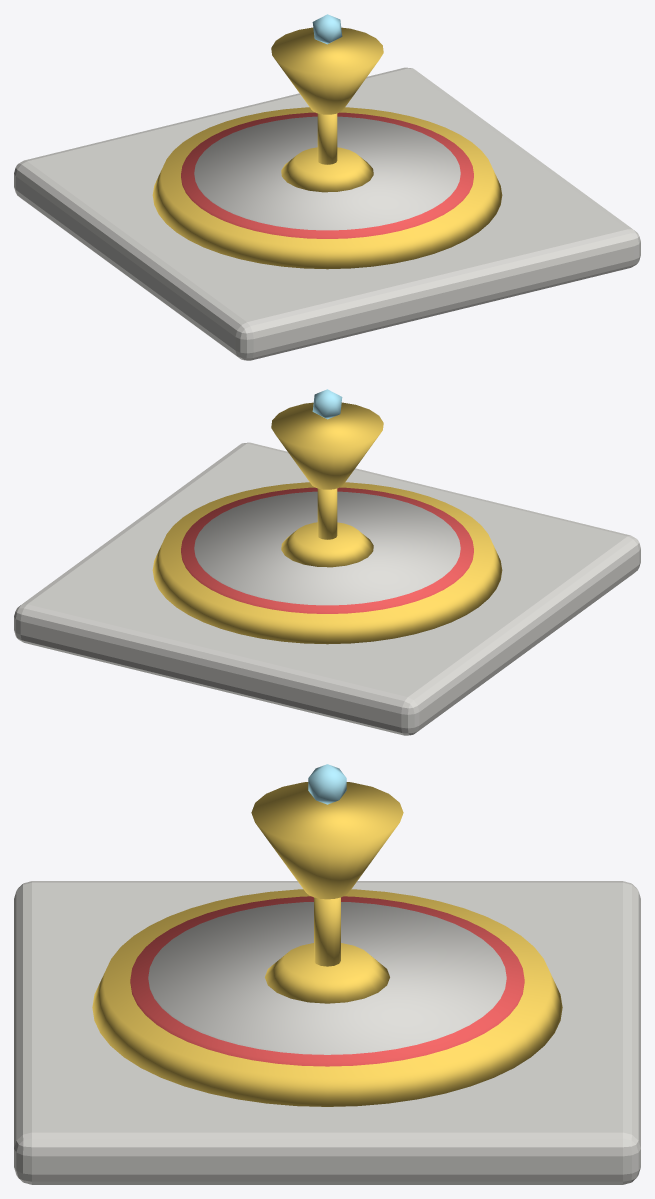
The model's file is Tile_Corner_Festival.fbx.
3 renders of one model, top to bottom at view 1: azimuth 30°, elevation 25°; view 2: azimuth 150°, elevation 25°; view 3: azimuth 270°, elevation 25°, orthographic. The views are drawn at different scales.
Visible parts, largest first — view 1: Tile_Corner_Festival; view 2: Tile_Corner_Festival; view 3: Tile_Corner_Festival.
Part boxes in pixels (x1=…): Tile_Corner_Festival: x1=14, y1=14, x2=640, y2=360; Tile_Corner_Festival: x1=14, y1=389, x2=640, y2=735; Tile_Corner_Festival: x1=14, y1=764, x2=640, y2=1184.
Size of the model in its own units: 2.8 by 1.45 by 2.8.
